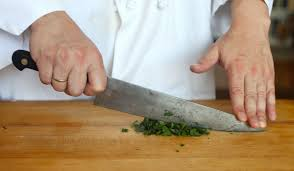knife: (8, 45, 272, 136)
